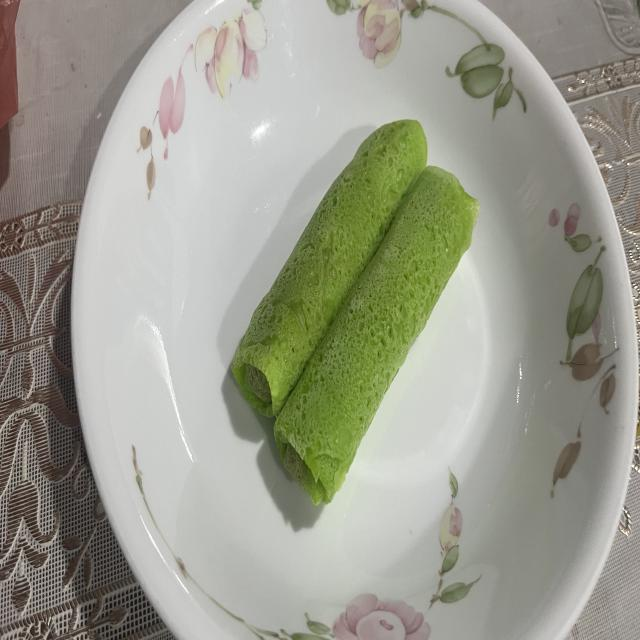Kuih-Ketayap: (274, 167, 479, 502), (231, 120, 428, 416)
